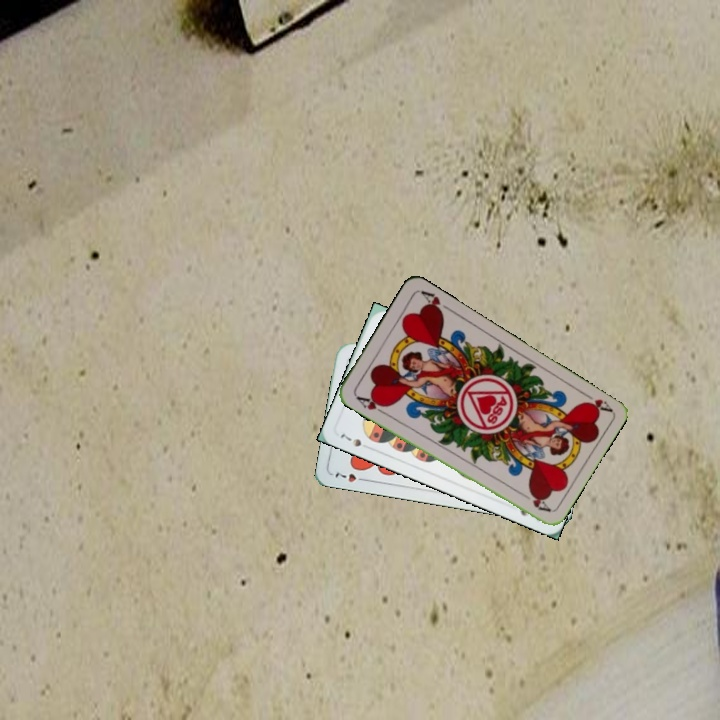H7: (331, 468, 370, 486)
HA: (576, 387, 614, 415), (352, 392, 390, 417)
S7: (336, 430, 374, 452)
